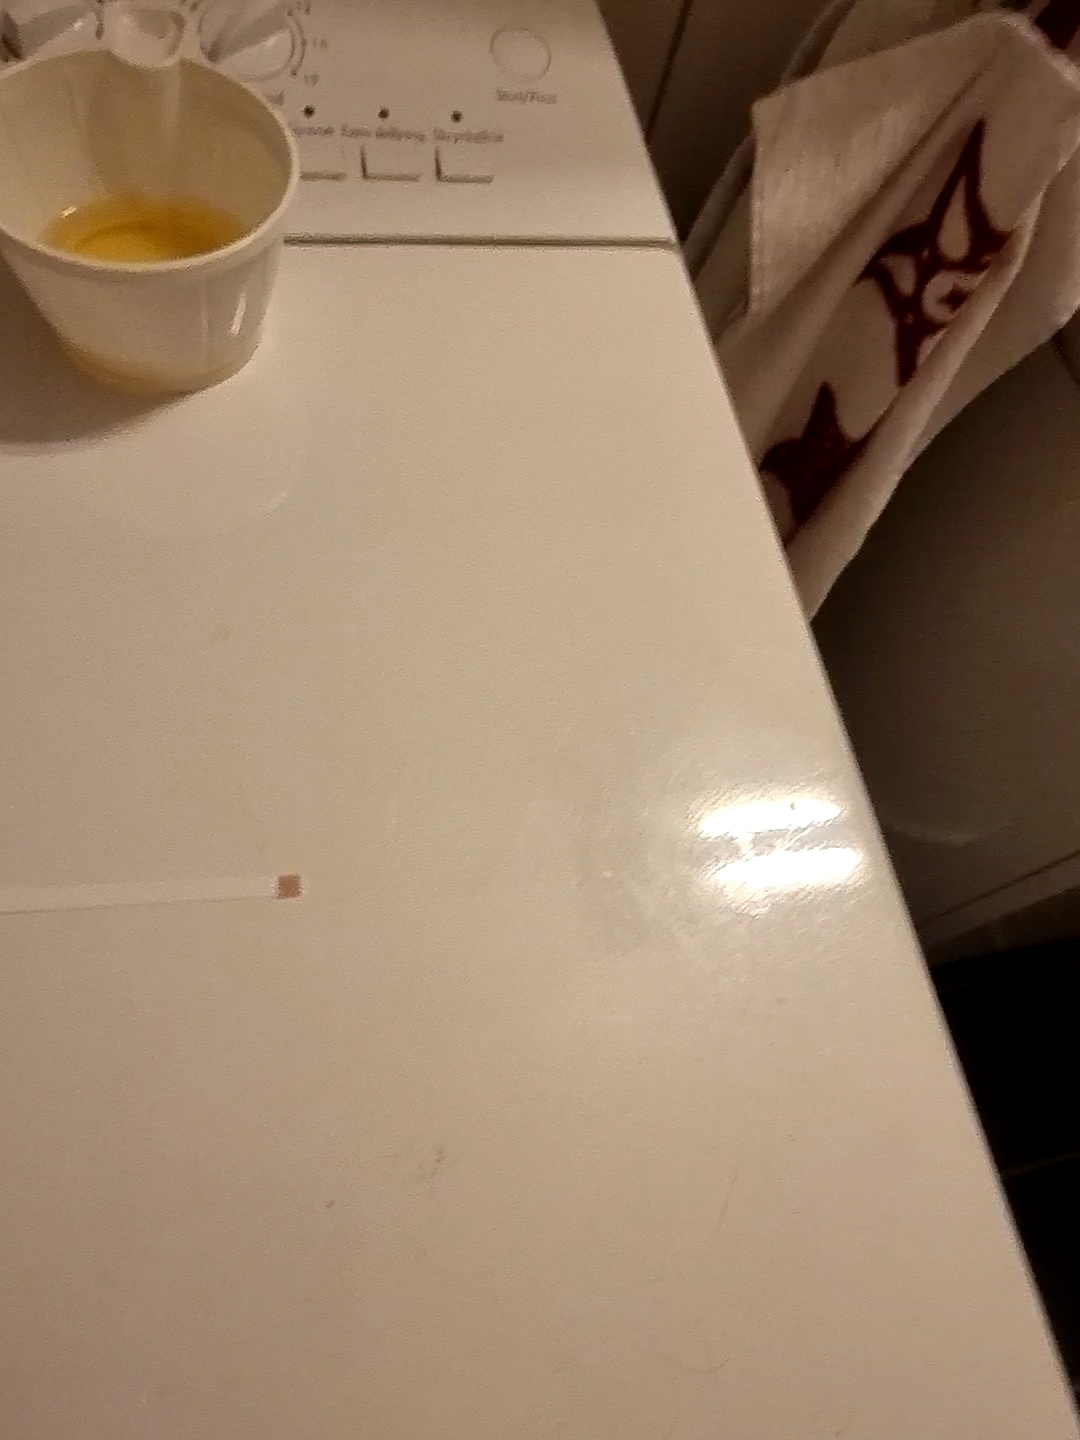keto-tip: (272, 869, 307, 907)
